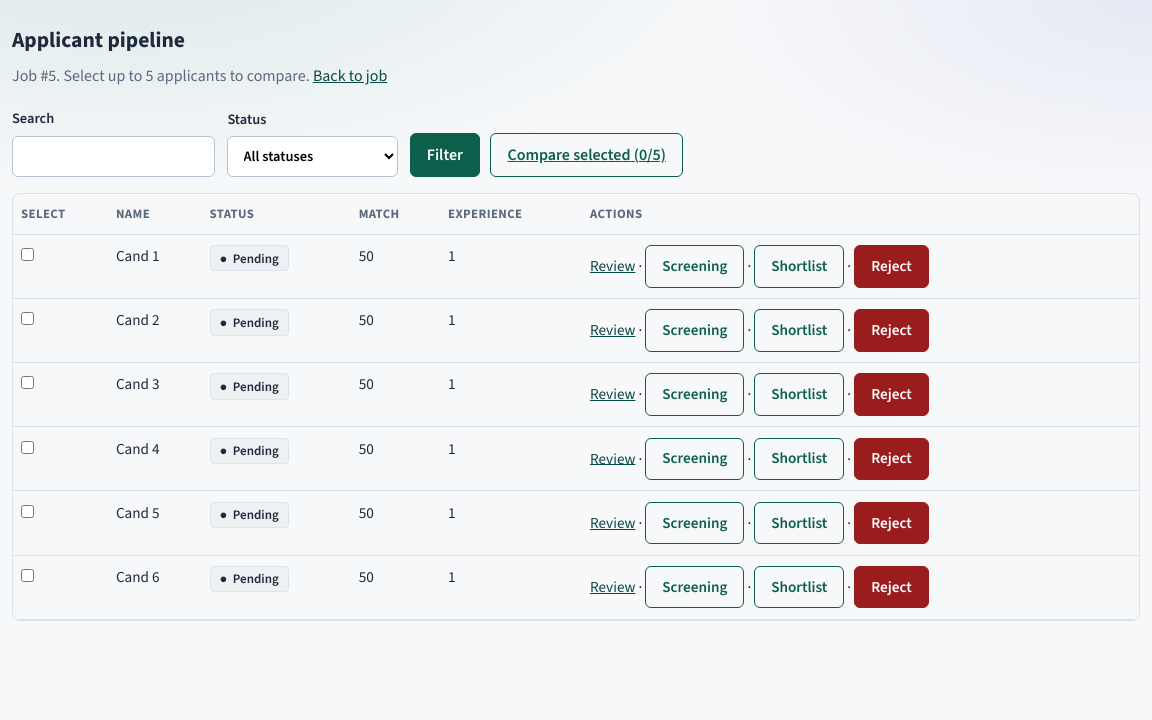
Test case: Pipeline confirmation and comparison limit › limits comparison selection to 5
The width and height of the screenshot is (1152, 720).
Check: the text "Cand 1" is shown, box [108, 235, 202, 298]
Click the checkbox named "Select Cand 1": (28, 255) [21, 248, 34, 261]
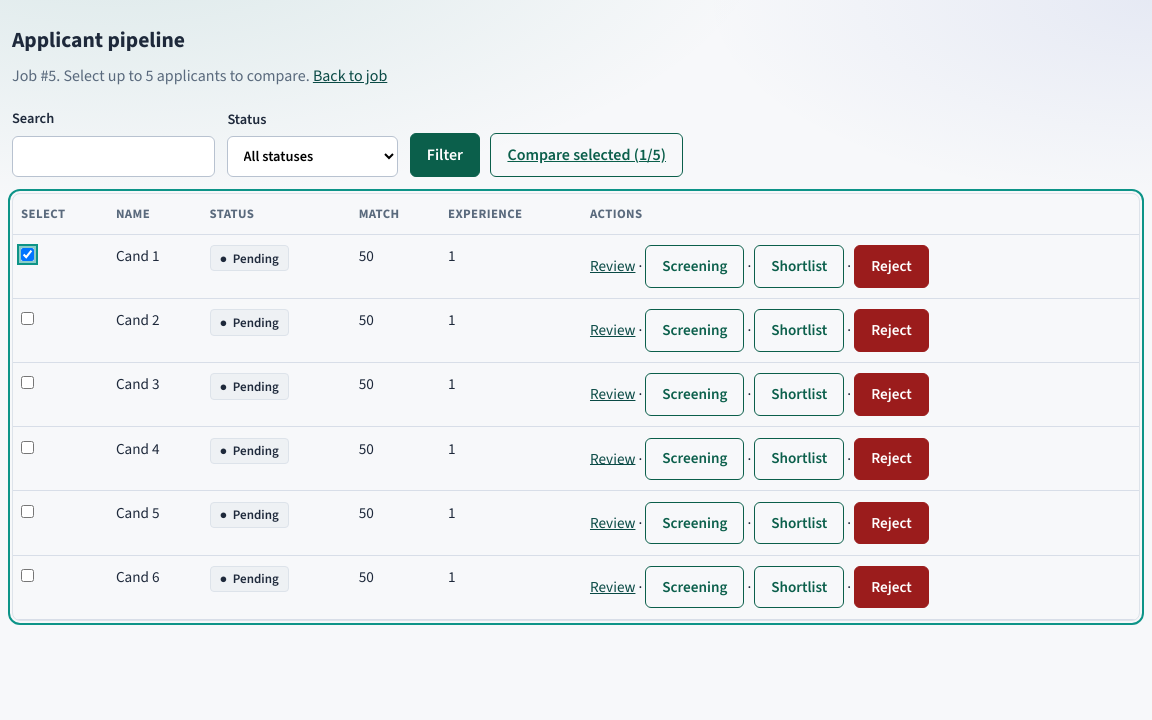
Click the checkbox named "Select Cand 2": (28, 319) [21, 312, 34, 325]
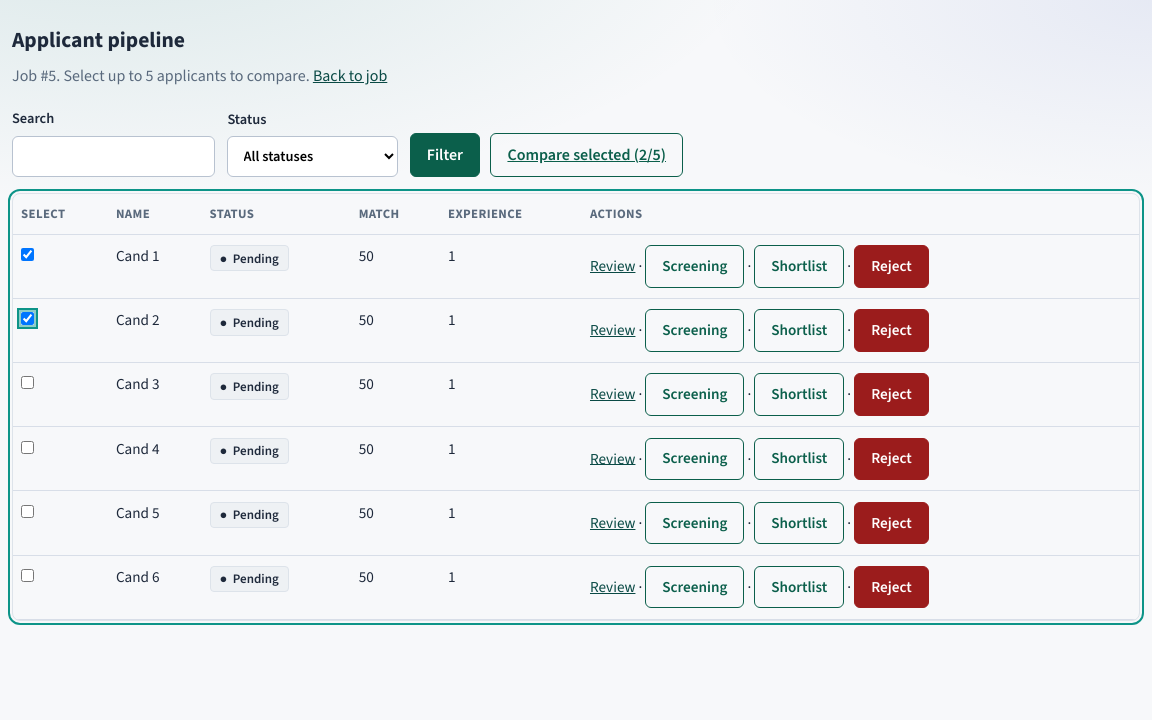
Click the checkbox named "Select Cand 3": (28, 383) [21, 376, 34, 390]
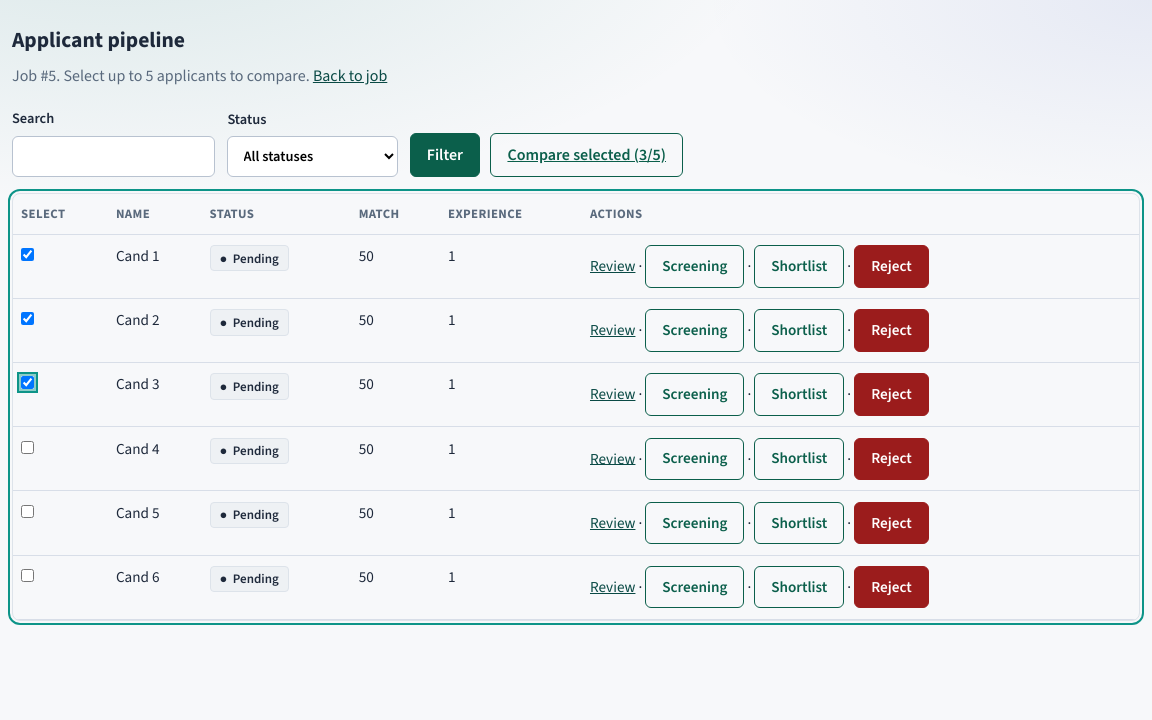
Click the checkbox named "Select Cand 4": (28, 447) [21, 441, 34, 454]
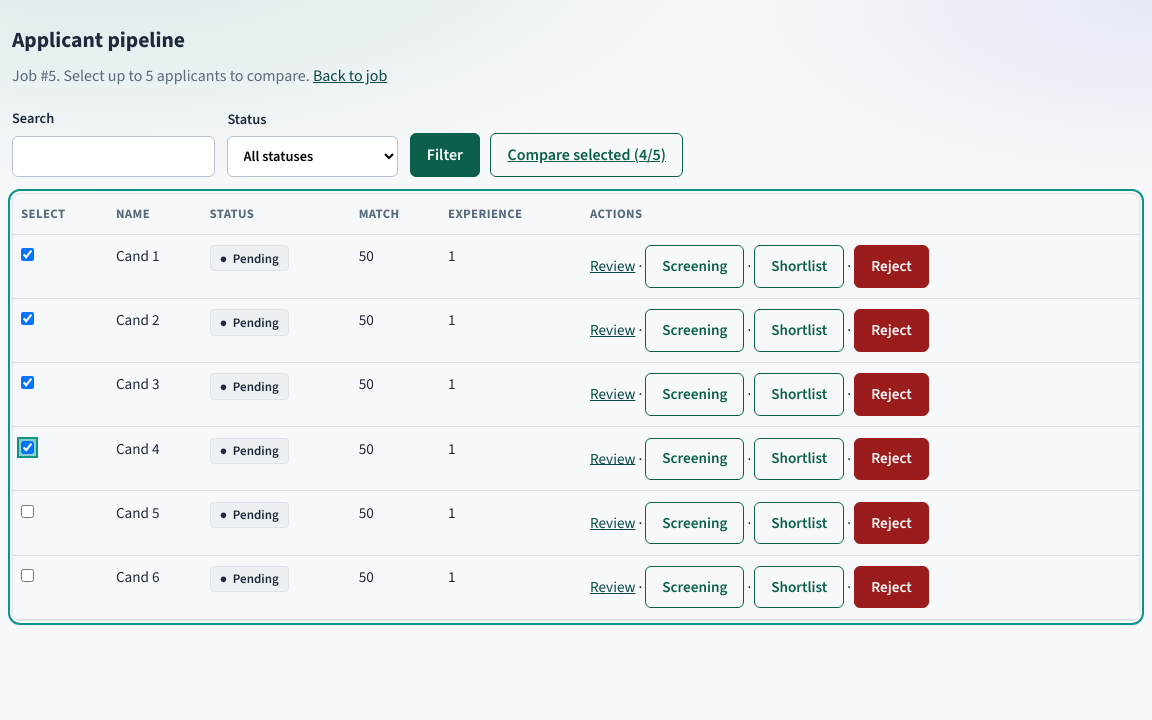
Click the checkbox named "Select Cand 5": (28, 511) [21, 505, 34, 518]
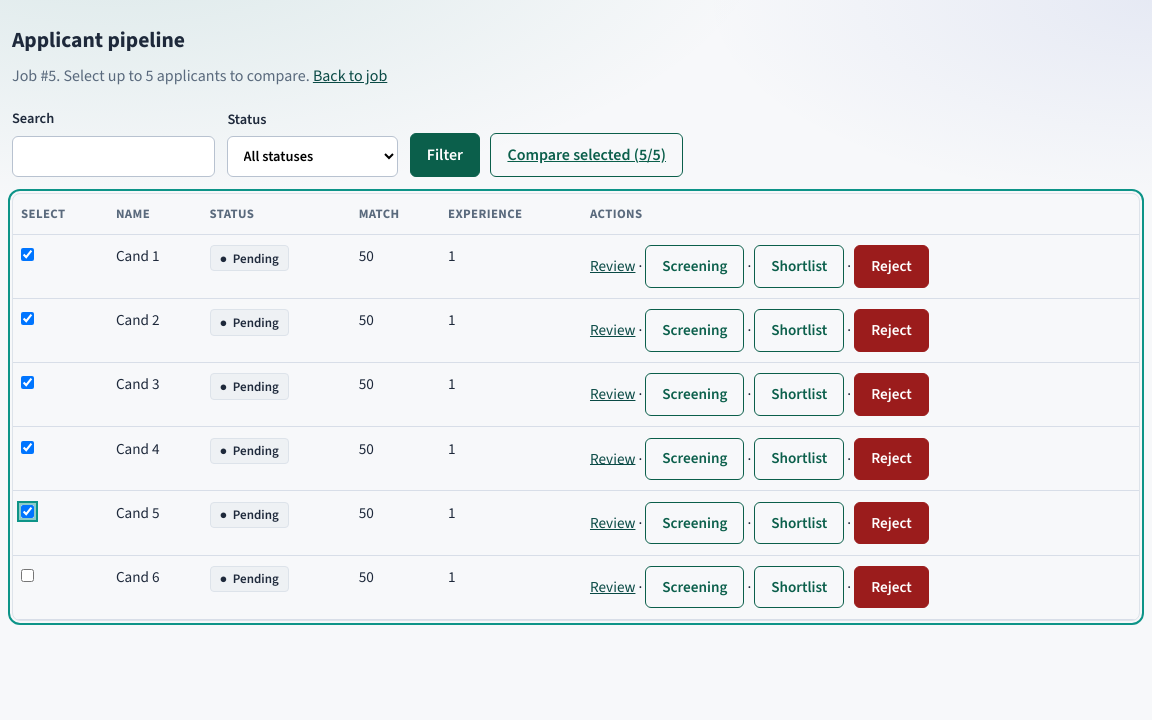
Click the checkbox named "Select Cand 6": (28, 576) [21, 569, 34, 582]
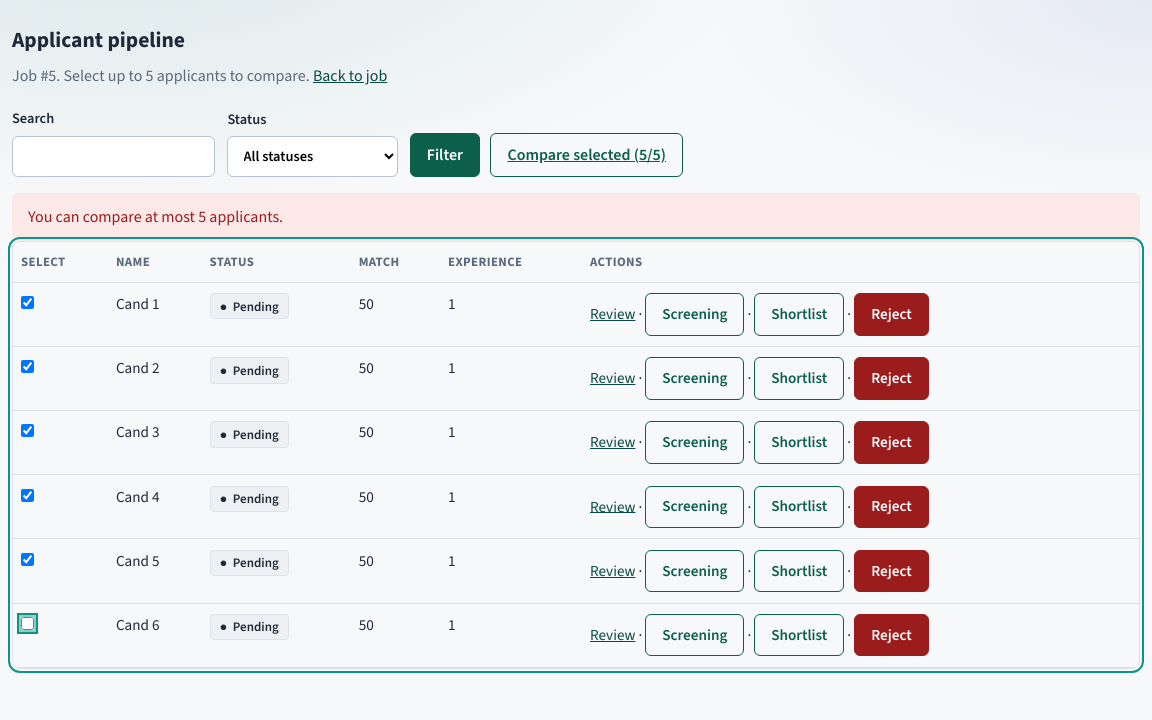
Check: the text "You can compare at most 5 applicants." is shown, box [12, 193, 1140, 241]
